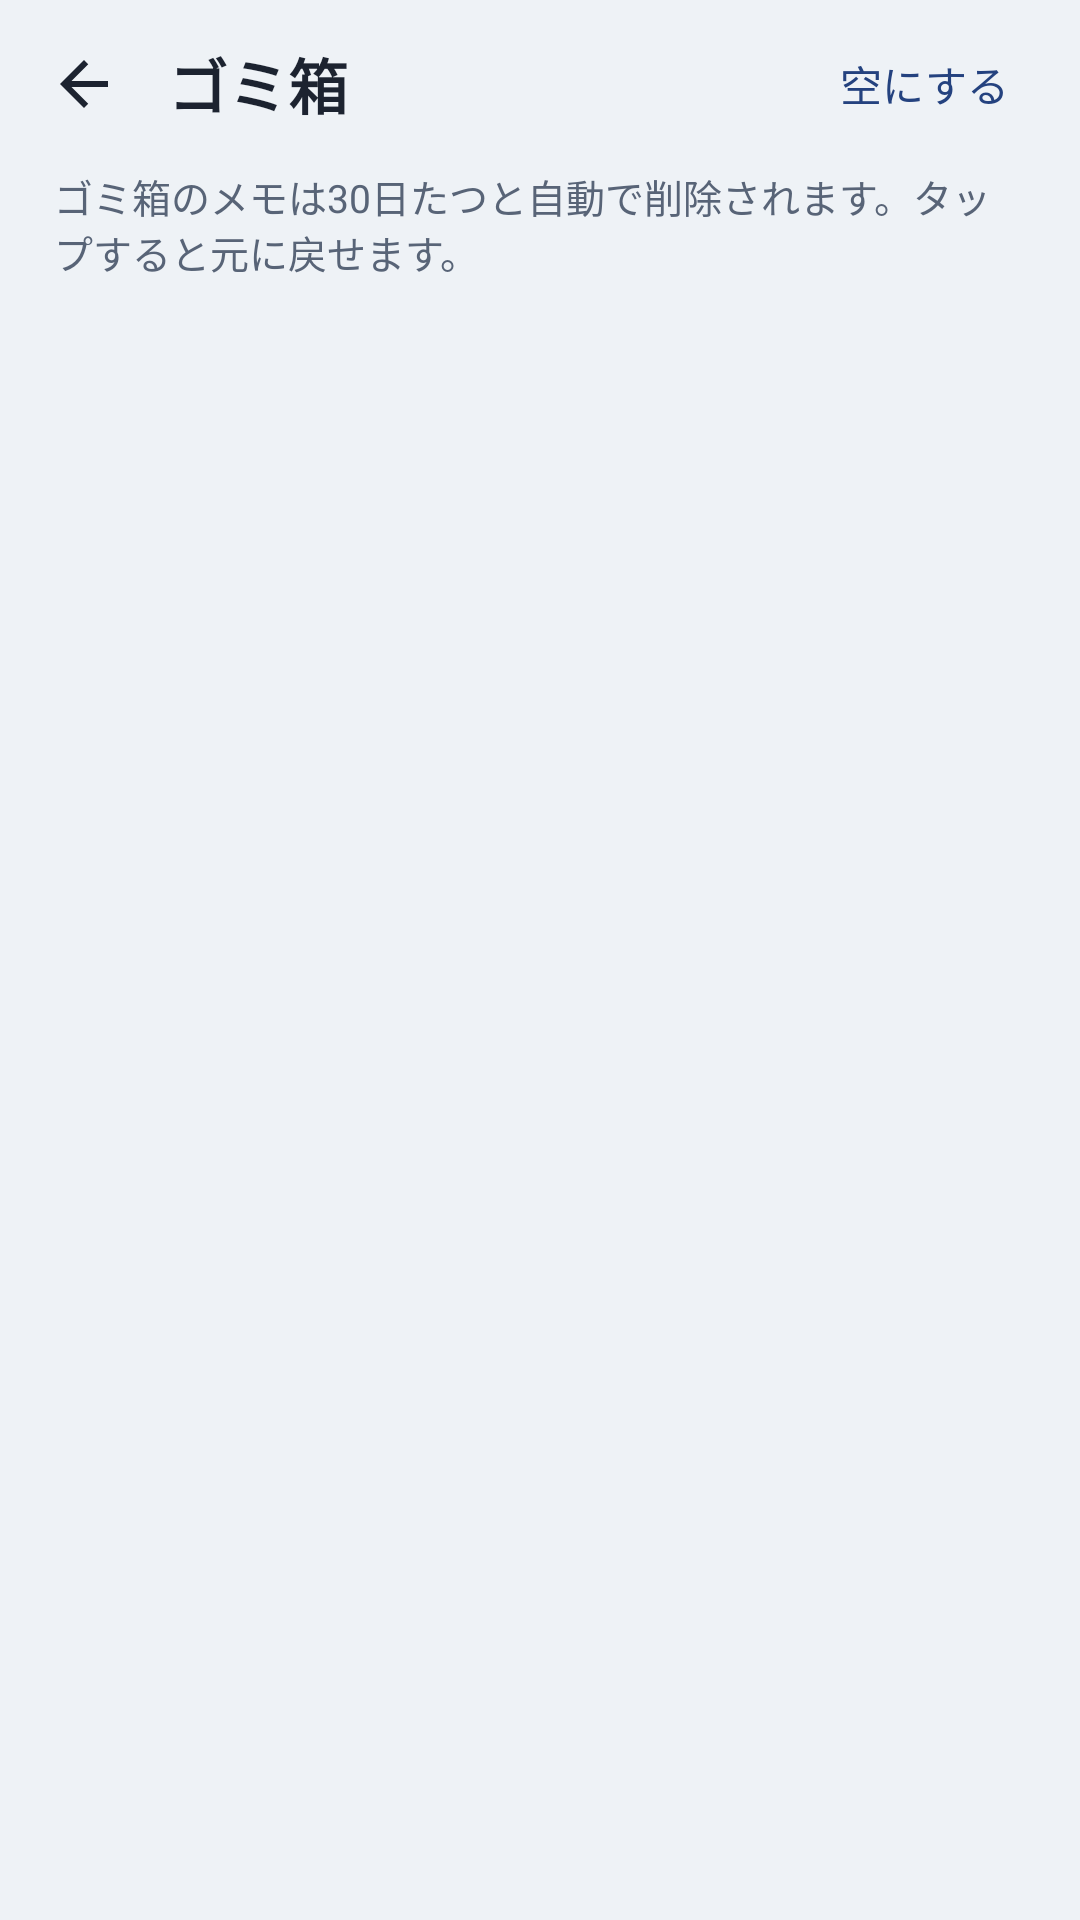

Point at icon controls on the screen. Image size 1080 x 1920, points as (x=x, y=y).
一覧に戻る: (x=84, y=84)
